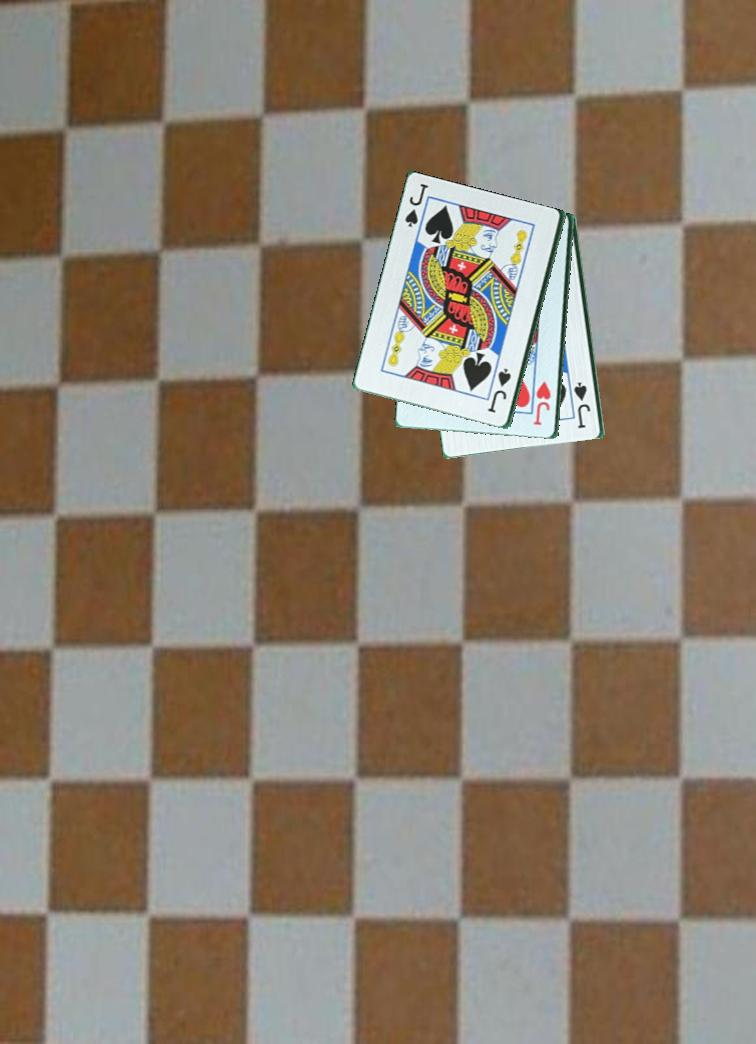jh: (532, 378, 554, 428)
js: (401, 180, 431, 231), (487, 364, 514, 416), (572, 379, 594, 432)
